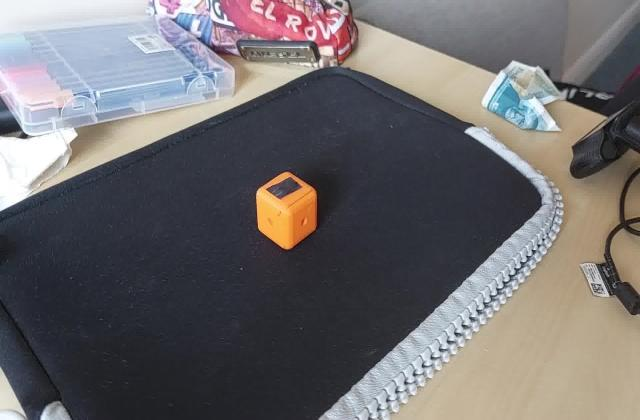black: (265, 178, 303, 202)
cube: (254, 170, 320, 250)
